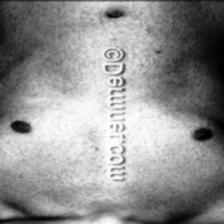Non-Cancerous Skin Condition: (147, 35, 220, 207), (17, 152, 89, 224), (34, 16, 90, 102), (78, 0, 180, 10)
